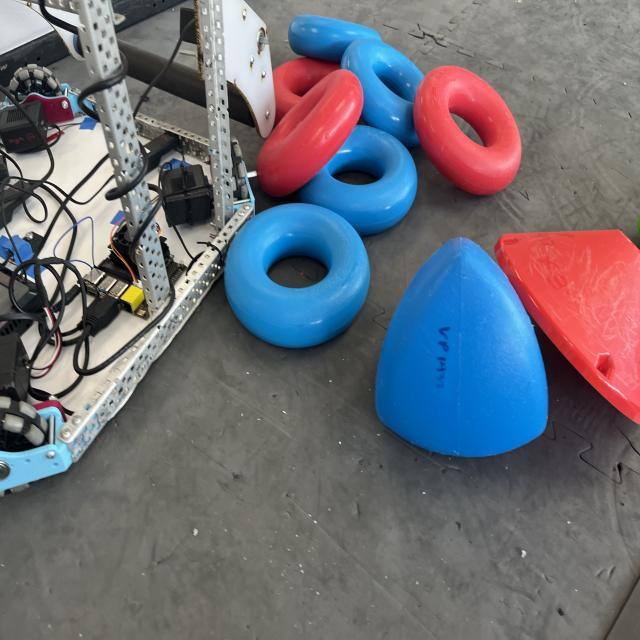Blue-Ring: (225, 203, 370, 348), (299, 127, 418, 235), (341, 38, 424, 147), (289, 15, 381, 62)
Red-Ring: (414, 65, 521, 195), (256, 70, 364, 197), (272, 57, 340, 127)
